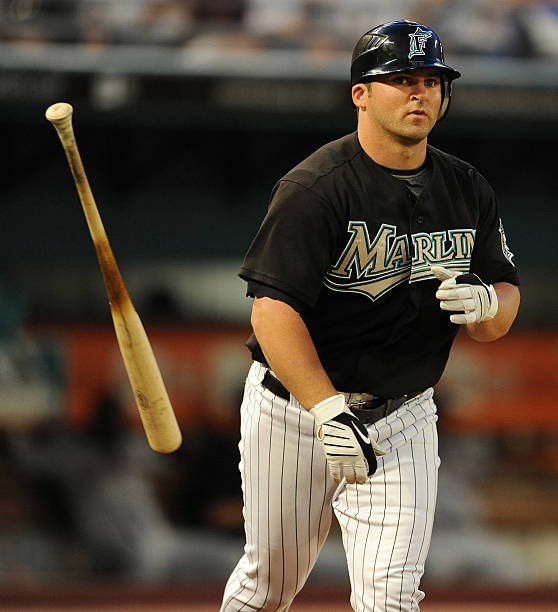bita: (44, 102, 185, 452)
